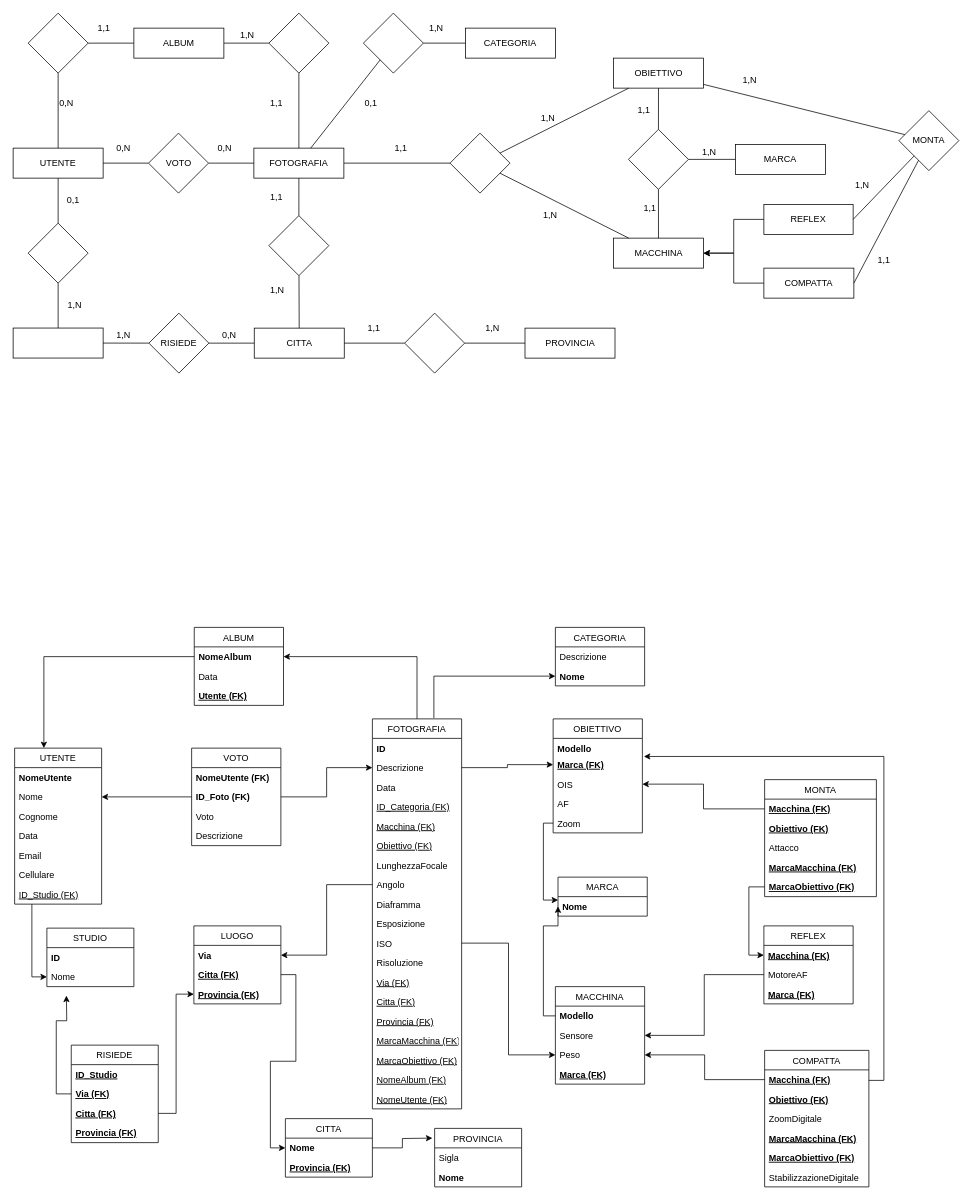
Image size: 972x1202. Some labels were removed from this diagram. Each missing label, with the centre of its shape:
"APPARTIENE" goes at pixel 298 42.
"FATTA A" goes at pixel 393 42.
"FATTA IN" goes at pixel 298 245.
"LAVORA" goes at pixel 57 252.
"PRODUCE" goes at pixel 658 159.
"PUBBLICA" goes at pixel 57 42.
"SCATTATA" goes at pixel 479 162.
"SITUATA" goes at pixel 434 342.
"STUDIO FOTOGRAFICO" goes at pixel 57 342.
